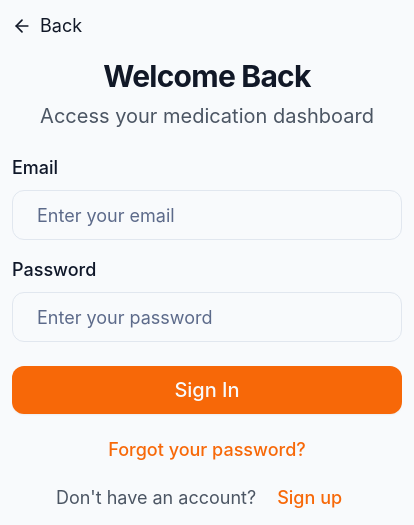
Test: LoginForm › should show loading text when submitting
This screenshot has width=414, height=525.
Type "test@example.com" into the field labelled "Email".
click(207, 215); type("test@example.com")  # box [12, 190, 402, 240]
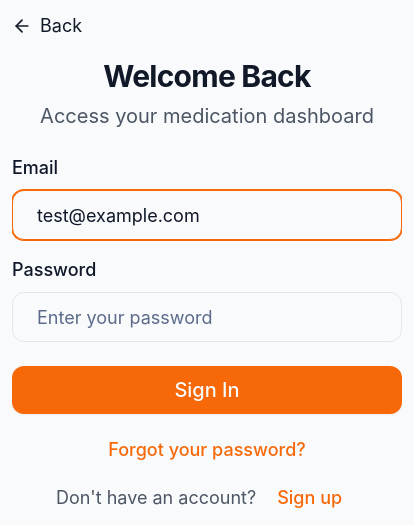
Type "password123" into the password field labelled "Password".
click(207, 317); type("password123")  # box [12, 292, 402, 342]
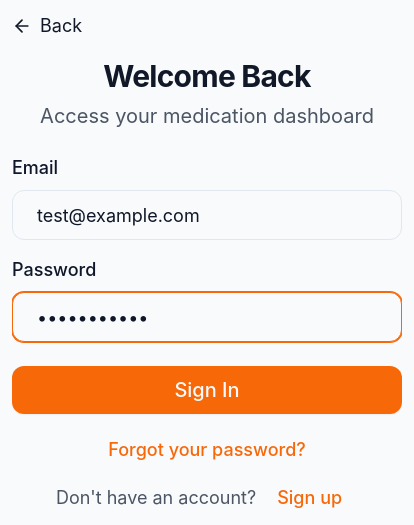
Click the button "Sign In".
click(207, 390)  # box [12, 366, 402, 414]
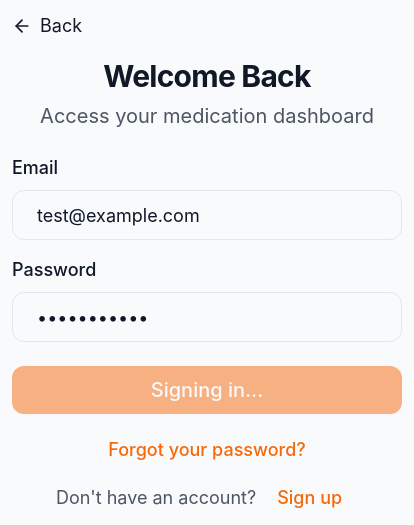
Check: the button "Signing in..." is disabled, box [12, 366, 402, 414]
